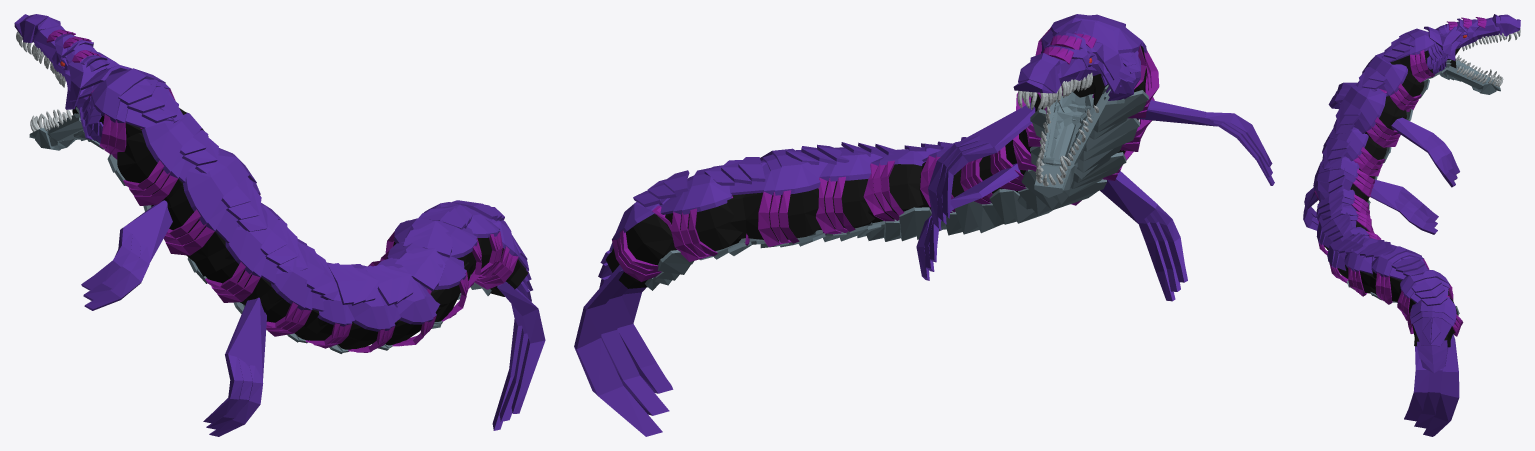
File: mosasaur.glb
The picture shows the model from 3 angles, left to right: view 1: azimuth 30°, elevation 25°; view 2: azimuth 150°, elevation 25°; view 3: azimuth 270°, elevation 25°; orthographic projection. The views are drawn at different scales.
Parts seen in each view (by area): view 1: node_MeshObject408437376-PolyPaper16, node_MeshObject-633612608-PolyPaper15, node_MeshObject-448637184-PolyPaper15, node_MeshObject-114892544-PolyPaper2, node_MeshObject2123223360-PolyPaper16, node_MeshObject2005211392-PolyPaper15; view 2: node_MeshObject-448637184-PolyPaper15, node_MeshObject-633612608-PolyPaper15, node_MeshObject-114892544-PolyPaper2, node_MeshObject408437376-PolyPaper16, node_MeshObject2123223360-PolyPaper16, node_MeshObject2005211392-PolyPaper15; view 3: node_MeshObject-448637184-PolyPaper15, node_MeshObject408437376-PolyPaper16, node_MeshObject-114892544-PolyPaper2, node_MeshObject-633612608-PolyPaper15, node_MeshObject2123223360-PolyPaper16, node_MeshObject2005211392-PolyPaper15.
Boxes of the visible parts, x1,y1,x2,y2 form: node_MeshObject408437376-PolyPaper16: [33, 25, 532, 352]; node_MeshObject-633612608-PolyPaper15: [29, 29, 531, 429]; node_MeshObject-448637184-PolyPaper15: [34, 55, 545, 430]; node_MeshObject-114892544-PolyPaper2: [30, 40, 528, 436]; node_MeshObject2123223360-PolyPaper16: [53, 104, 514, 338]; node_MeshObject2005211392-PolyPaper15: [14, 14, 101, 87]; node_MeshObject-448637184-PolyPaper15: [574, 14, 1159, 436]; node_MeshObject-633612608-PolyPaper15: [599, 33, 1180, 291]; node_MeshObject-114892544-PolyPaper2: [601, 20, 1272, 415]; node_MeshObject408437376-PolyPaper16: [598, 27, 1274, 285]; node_MeshObject2123223360-PolyPaper16: [614, 50, 1272, 241]; node_MeshObject2005211392-PolyPaper15: [1013, 32, 1096, 110]; node_MeshObject-448637184-PolyPaper15: [1315, 28, 1503, 436]; node_MeshObject408437376-PolyPaper16: [1313, 17, 1499, 364]; node_MeshObject-114892544-PolyPaper2: [1303, 20, 1499, 428]; node_MeshObject-633612608-PolyPaper15: [1305, 17, 1502, 372]; node_MeshObject2123223360-PolyPaper16: [1319, 62, 1496, 321]; node_MeshObject2005211392-PolyPaper15: [1447, 14, 1520, 51].
Size of the model in its own units: 1.19 by 1.01 by 0.6719.
